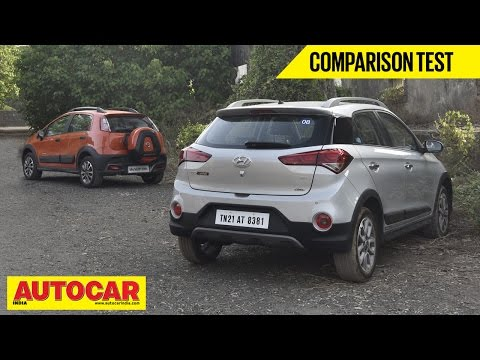car: (168, 95, 458, 286), (18, 103, 172, 200)
